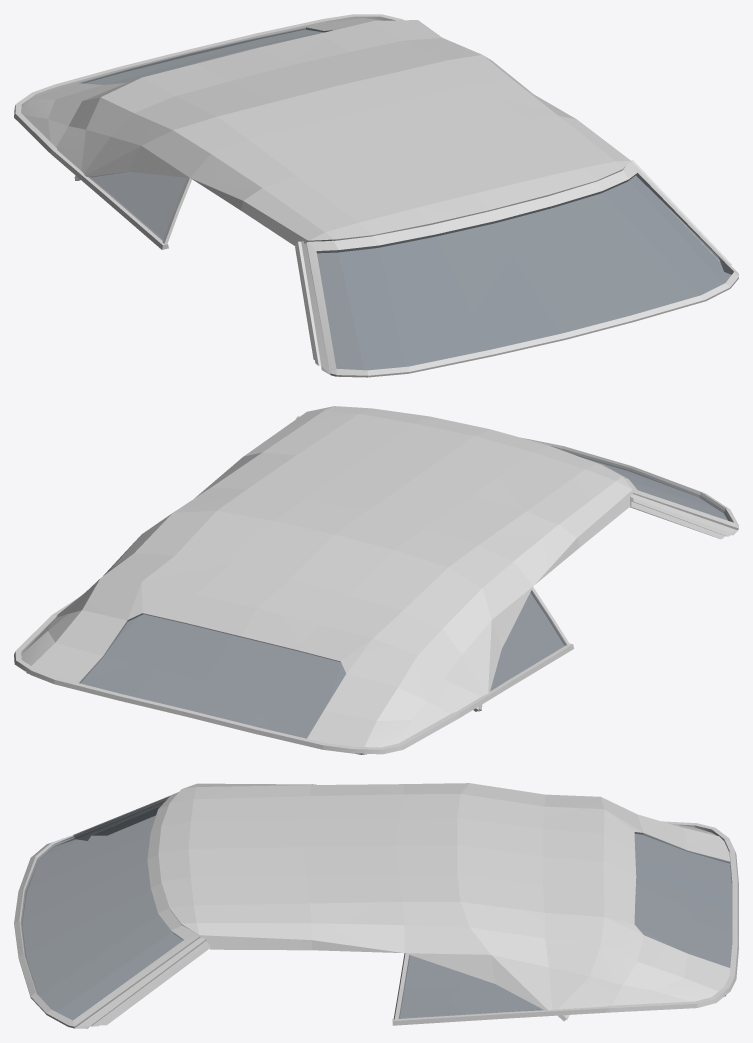
Rendered from Muscle_01_Roof_02.glb.
3 views of the same model, one above another, from view 1: azimuth 30°, elevation 25°; view 2: azimuth 150°, elevation 25°; view 3: azimuth 270°, elevation 25° (orthographic). The views are drawn at different scales.
Parts seen in each view (by area): view 1: SM_Veh_Muscle_01_Roof_02, SM_Veh_Muscle_01_Roof_02_Glass; view 2: SM_Veh_Muscle_01_Roof_02, SM_Veh_Muscle_01_Roof_02_Glass; view 3: SM_Veh_Muscle_01_Roof_02, SM_Veh_Muscle_01_Roof_02_Glass.
Boxes of the visible parts, left/top/right/bottom form: SM_Veh_Muscle_01_Roof_02: left=14, top=14, right=738, bottom=377; SM_Veh_Muscle_01_Roof_02_Glass: left=80, top=28, right=732, bottom=370; SM_Veh_Muscle_01_Roof_02: left=14, top=406, right=738, bottom=754; SM_Veh_Muscle_01_Roof_02_Glass: left=79, top=446, right=730, bottom=738; SM_Veh_Muscle_01_Roof_02: left=14, top=783, right=738, bottom=1028; SM_Veh_Muscle_01_Roof_02_Glass: left=21, top=797, right=731, bottom=1020.
Bounding box in the file's own units: 1.79 × 0.3833 × 2.83.
